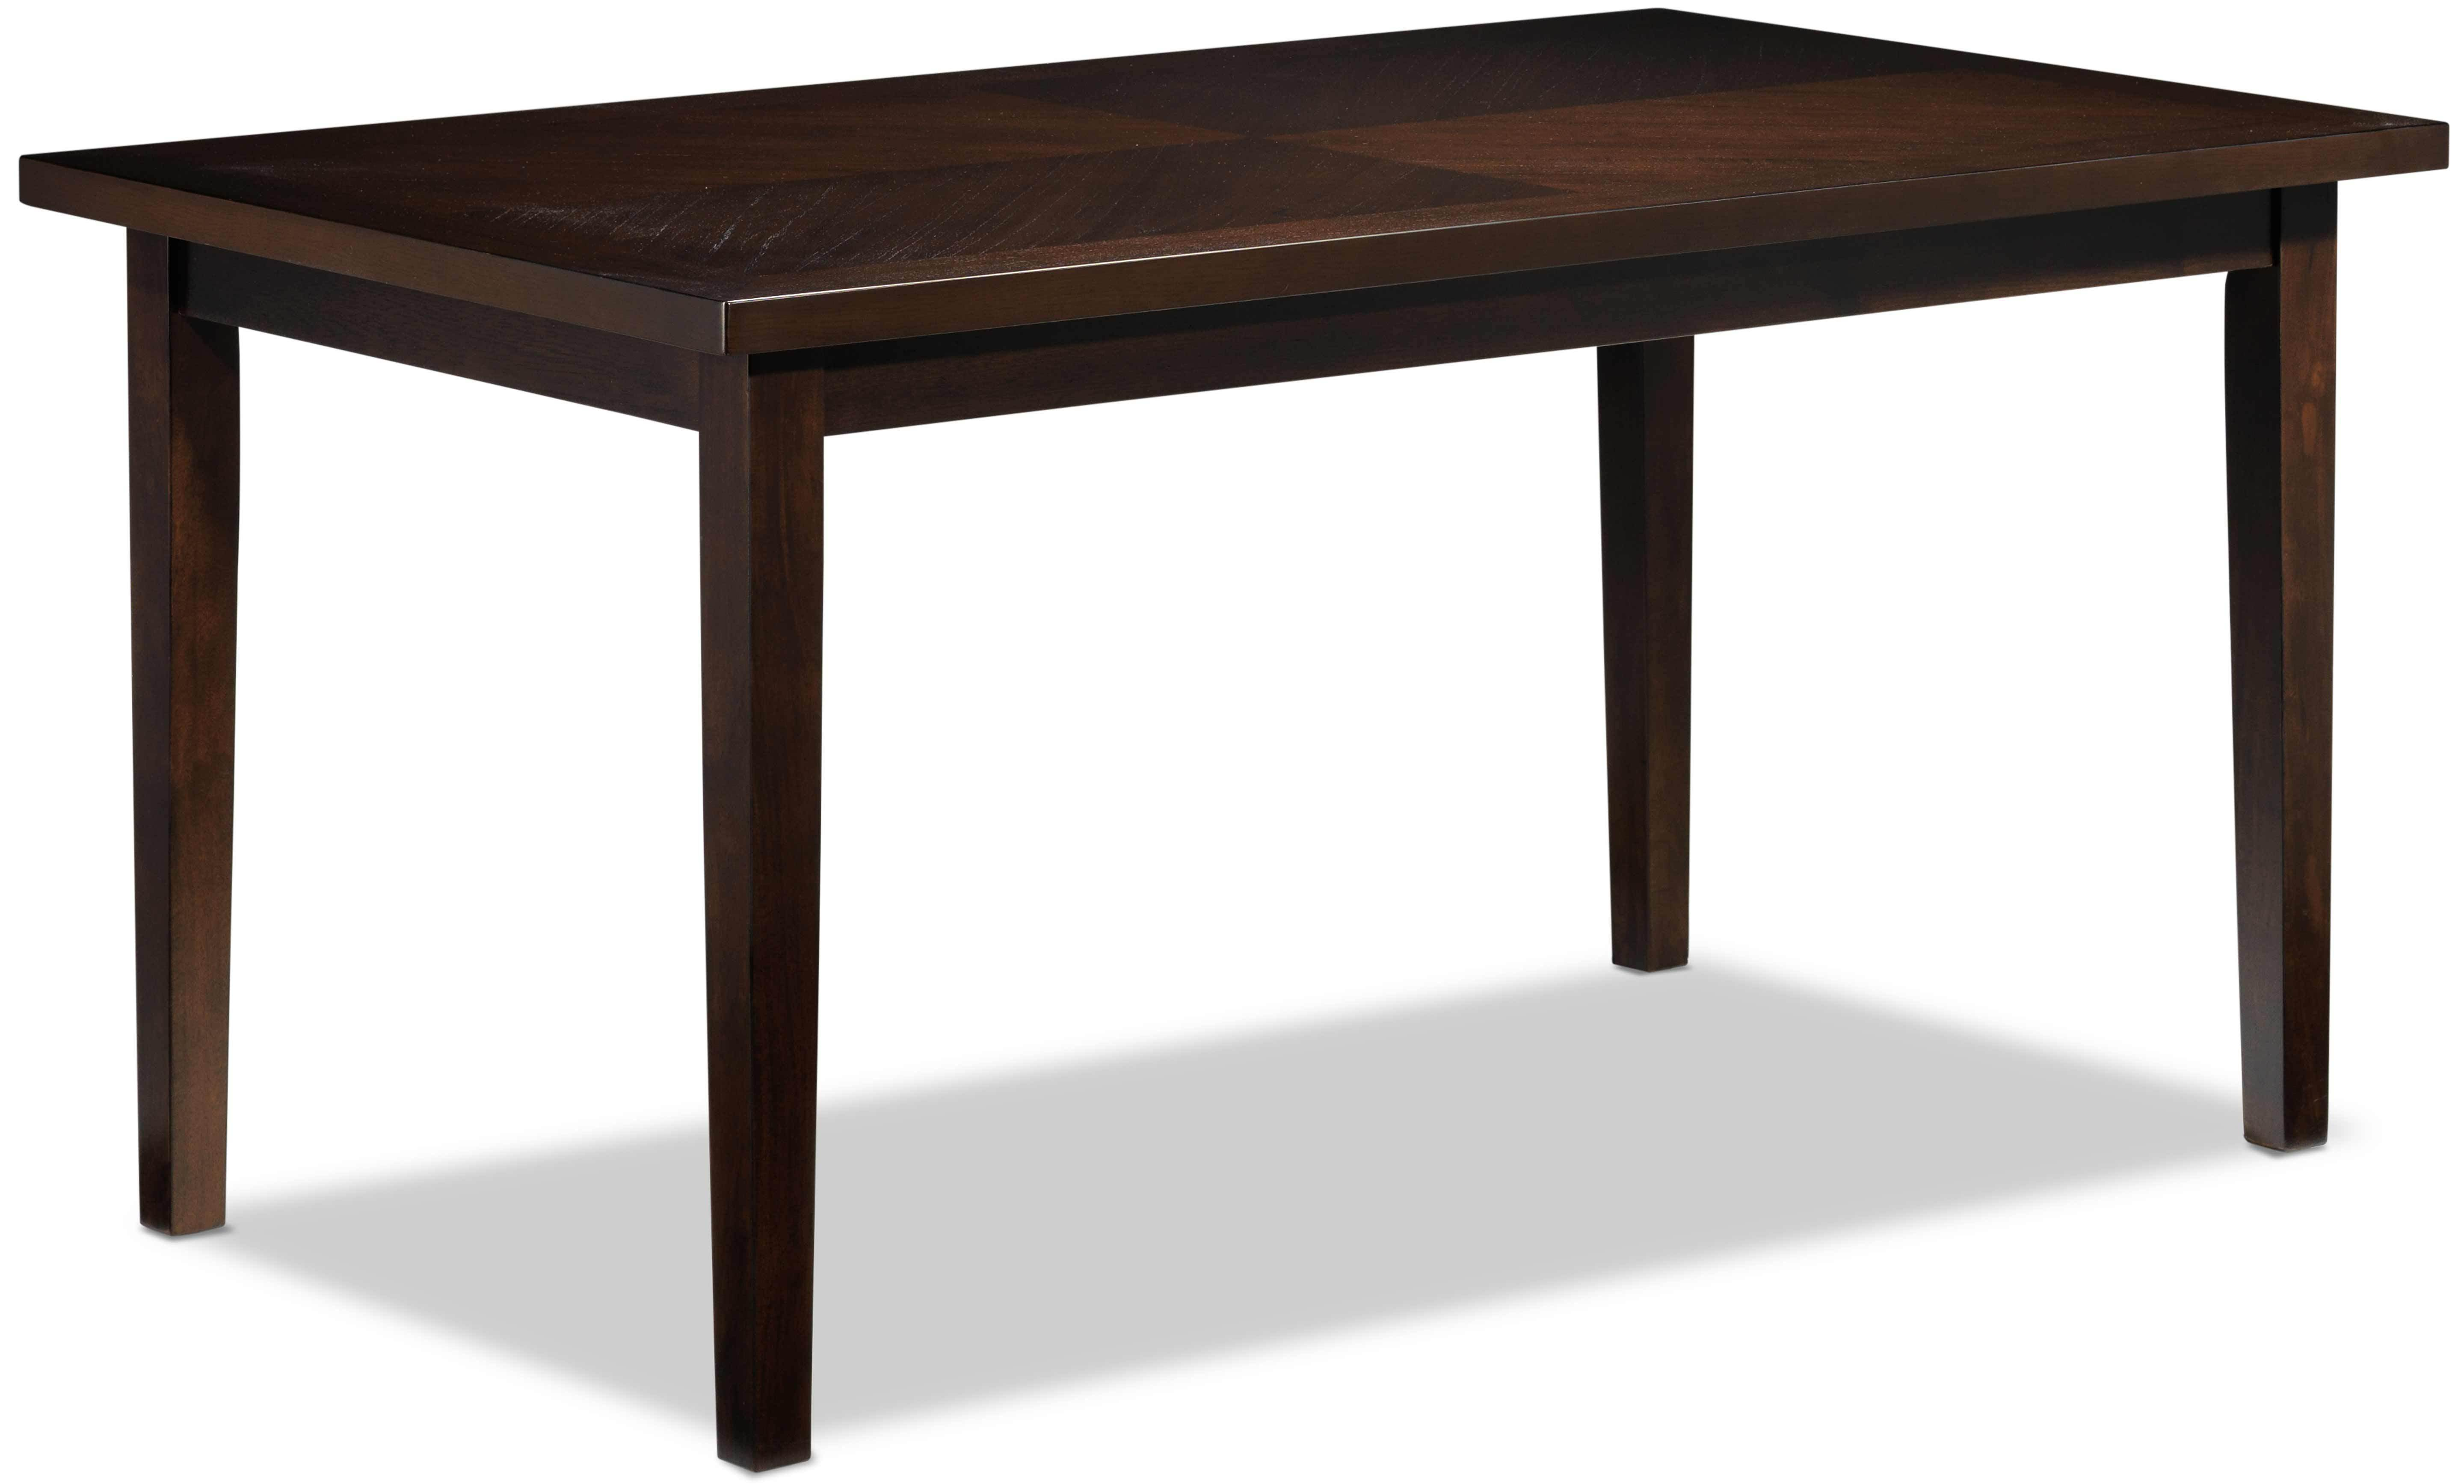meja: (0, 49, 2422, 1392)
